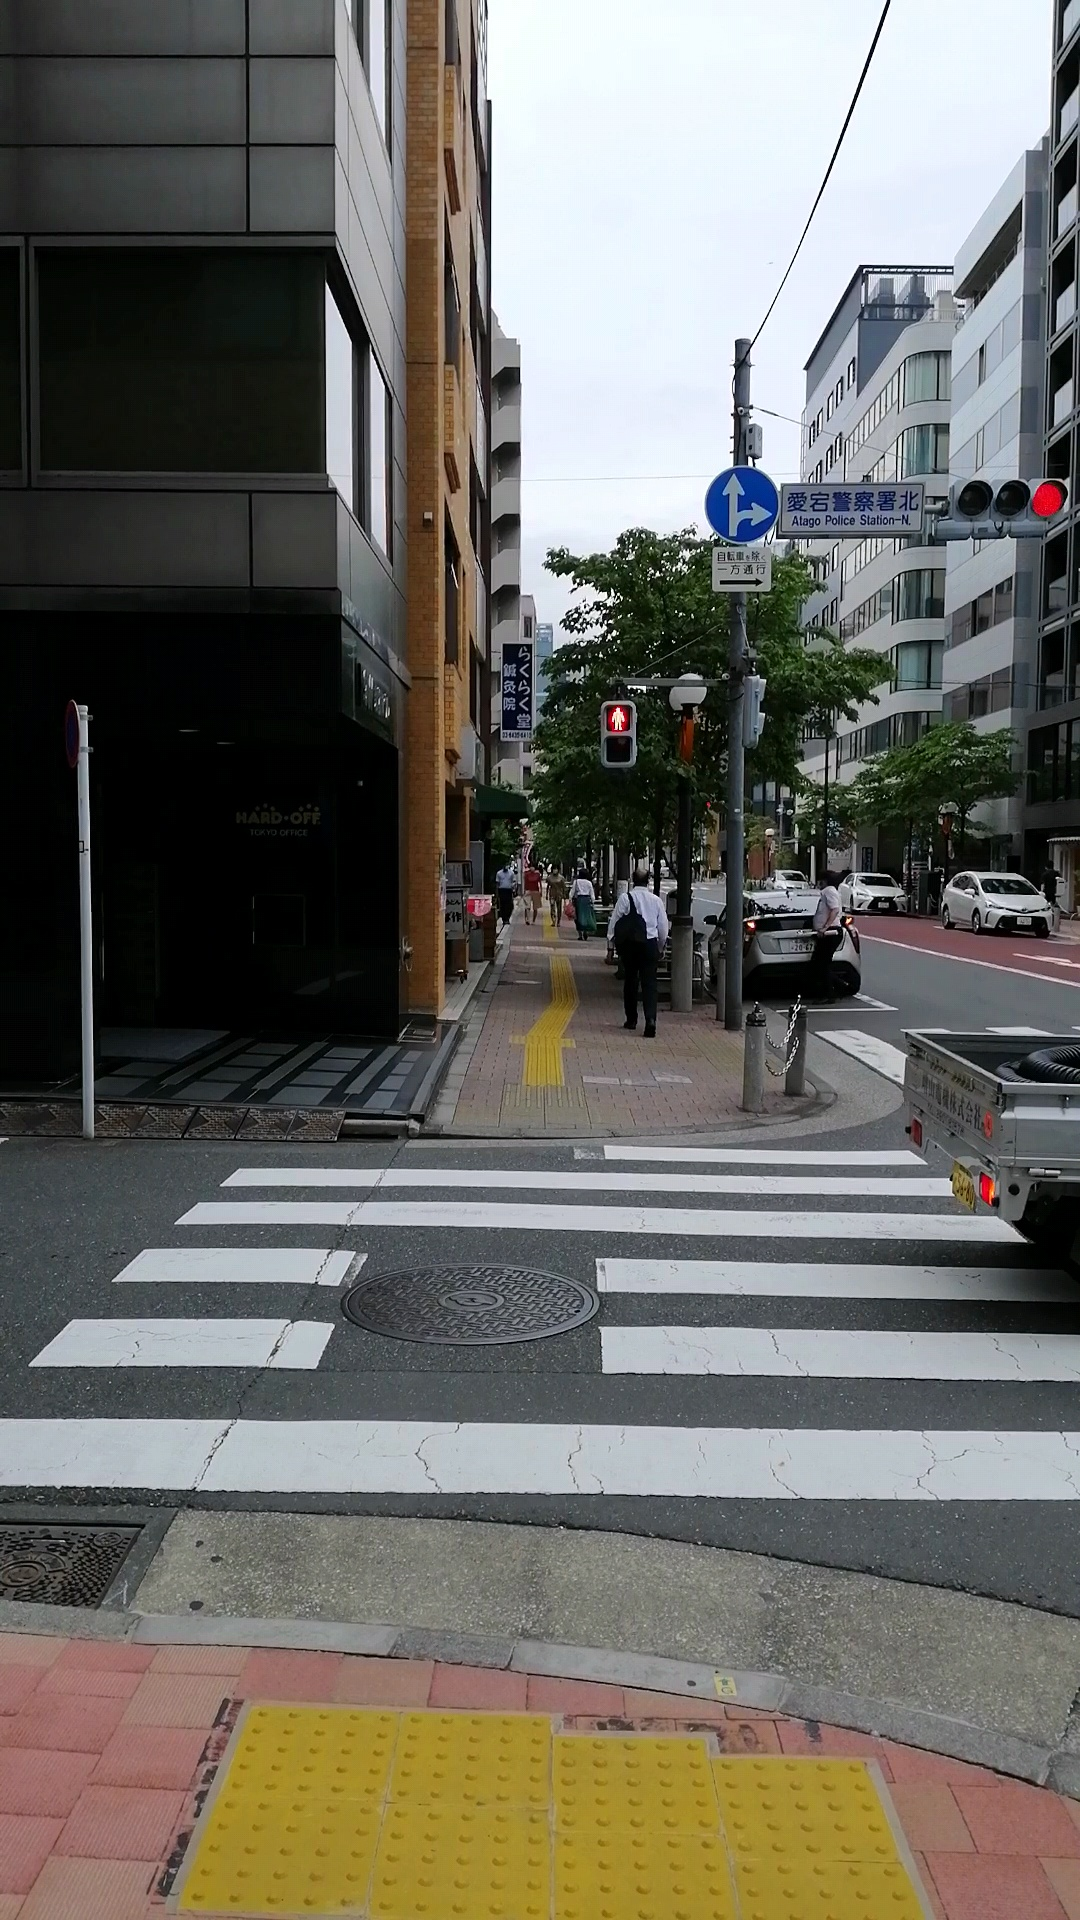red: (599, 700, 636, 767)
